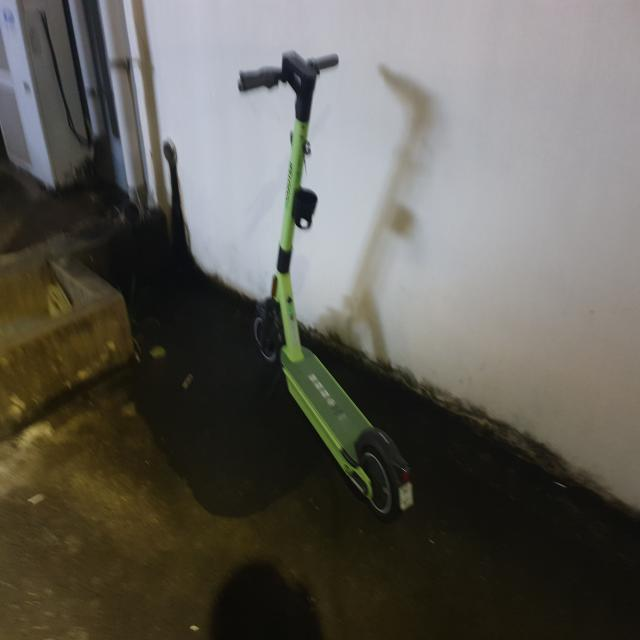bike: (242, 50, 416, 523)
